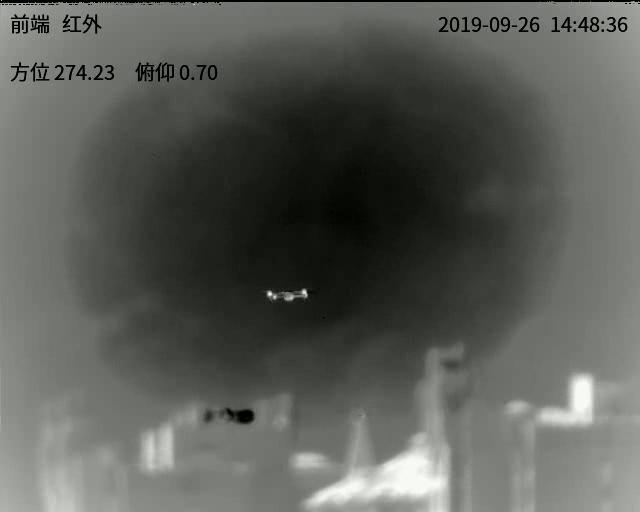DRONE: (265, 288, 309, 303)
